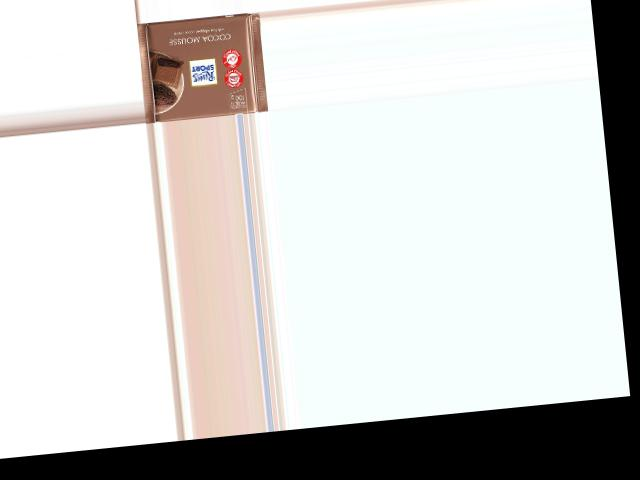chocolate: (136, 11, 266, 123)
